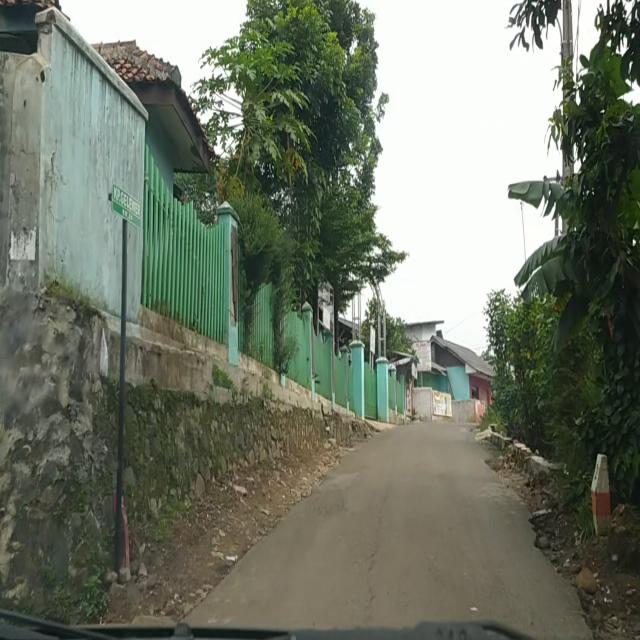Drain Hole: (298, 486, 352, 526)
